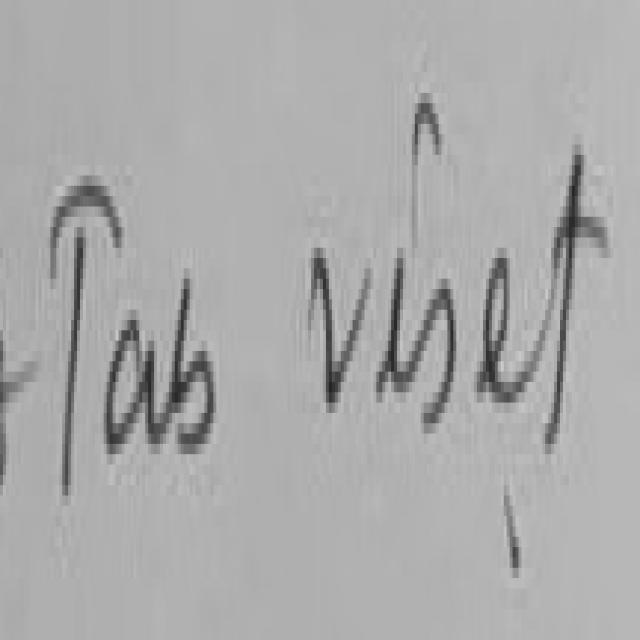T: (62, 227, 86, 490), (50, 186, 121, 274)
a: (107, 320, 172, 454)
b: (172, 279, 216, 454)
e: (480, 258, 536, 403)
i: (379, 258, 412, 397), (412, 100, 441, 170)
s: (408, 279, 459, 434)
t: (532, 155, 610, 449)
v: (314, 248, 370, 403)
